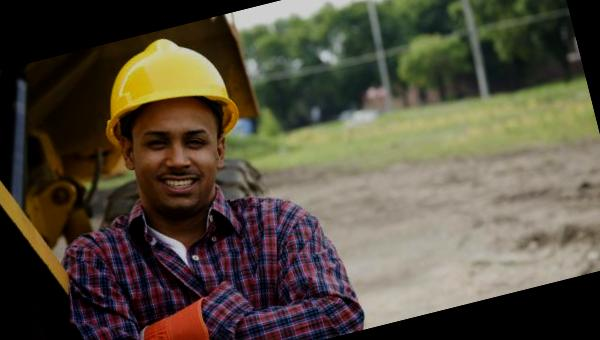helmet: (85, 23, 248, 172)
no_vest: (50, 160, 349, 340)
person: (28, 11, 345, 340)
